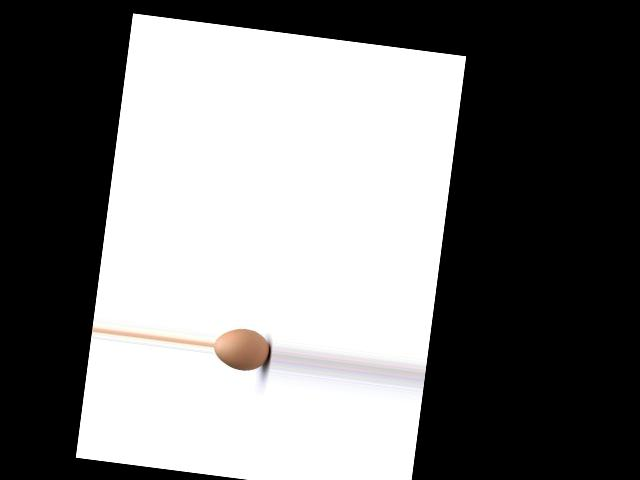egg: (212, 325, 272, 373)
